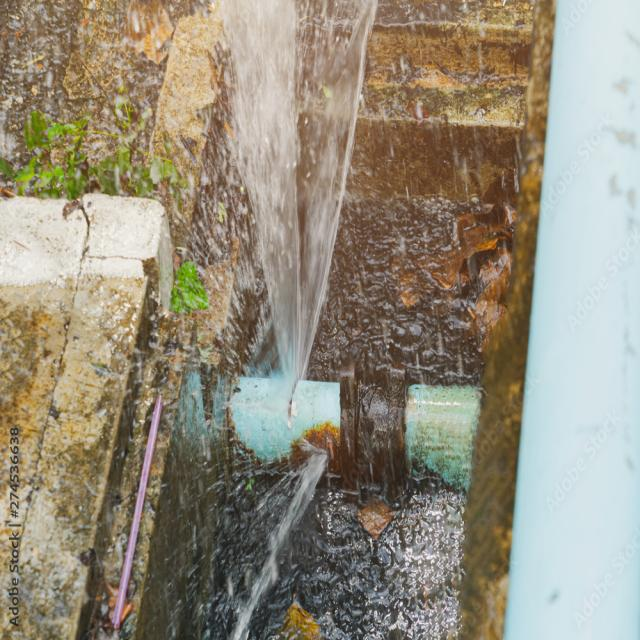leak: (222, 0, 376, 385), (230, 450, 328, 639)
